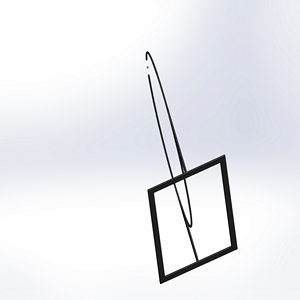circle: (139, 47, 240, 285)
